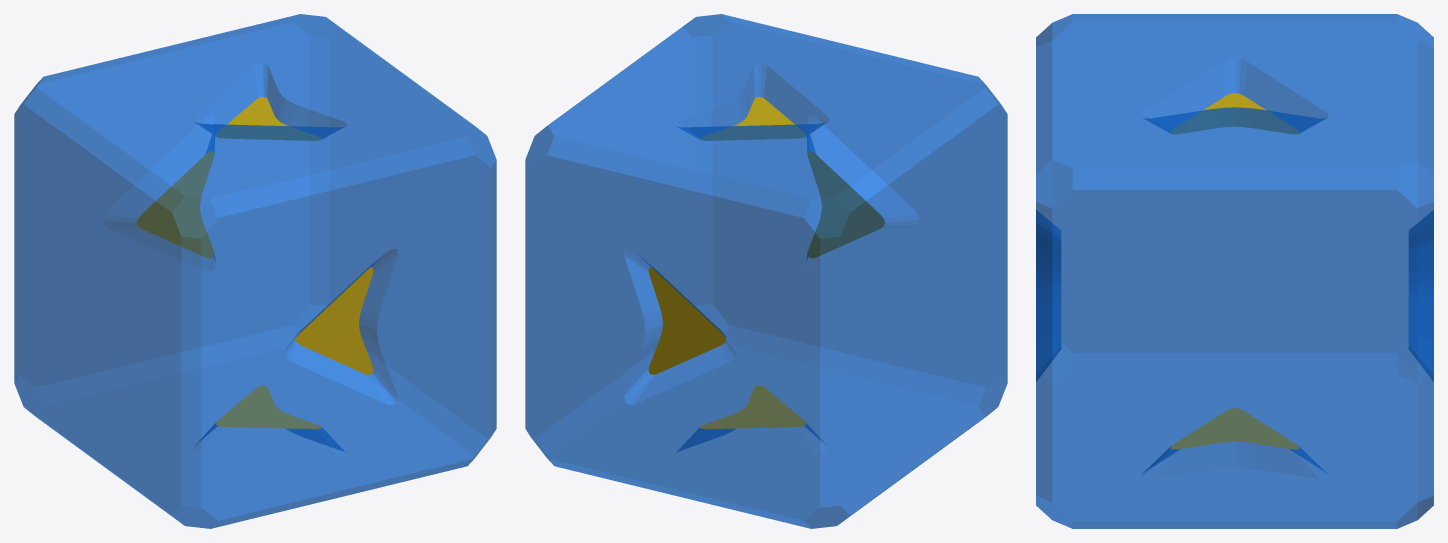
The picture shows the model from 3 angles, left to right: view 1: azimuth 30°, elevation 25°; view 2: azimuth 150°, elevation 25°; view 3: azimuth 270°, elevation 25°; orthographic projection. The views are drawn at different scales.
Visible parts, largest first — view 1: FK-10-1; view 2: FK-10-1; view 3: FK-10-1.
Boxes of the visible parts, x1,y1,x2,y2 form: FK-10-1: [14, 14, 496, 528]; FK-10-1: [525, 14, 1007, 528]; FK-10-1: [1036, 14, 1433, 528].
Size of the model in its own units: 10 by 10 by 10.
